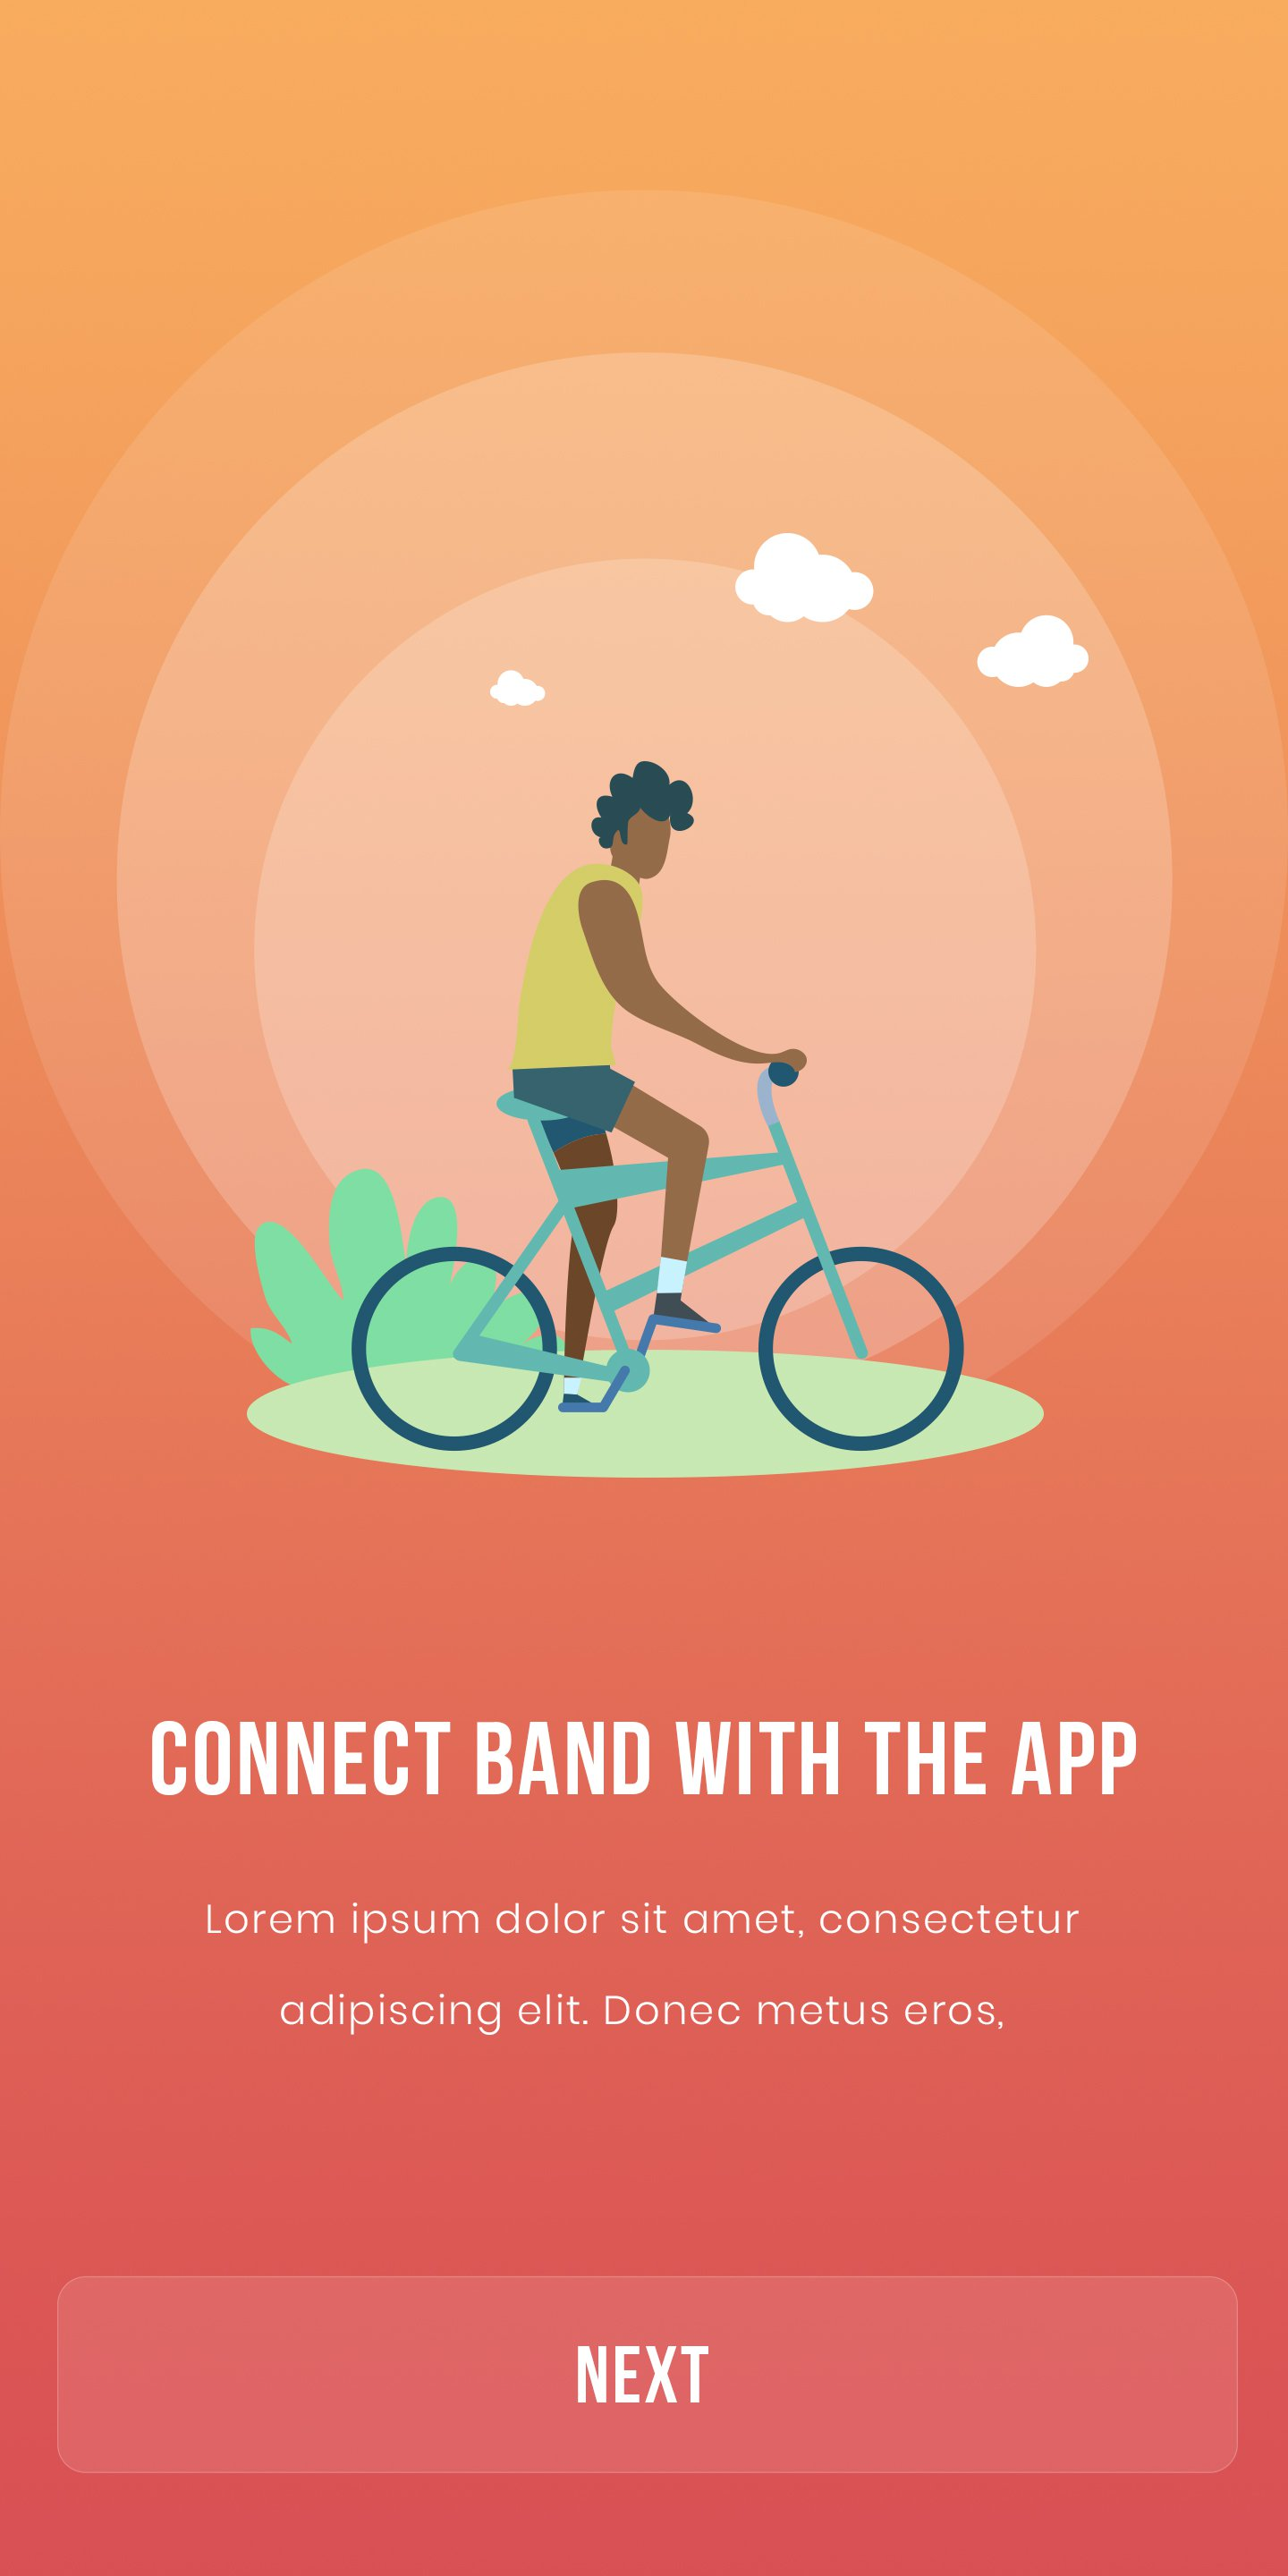Image: (246, 531, 1091, 1482)
Text: (207, 1901, 1079, 2037), (151, 1720, 1137, 1796)
TextButton: (58, 2275, 1239, 2474)
